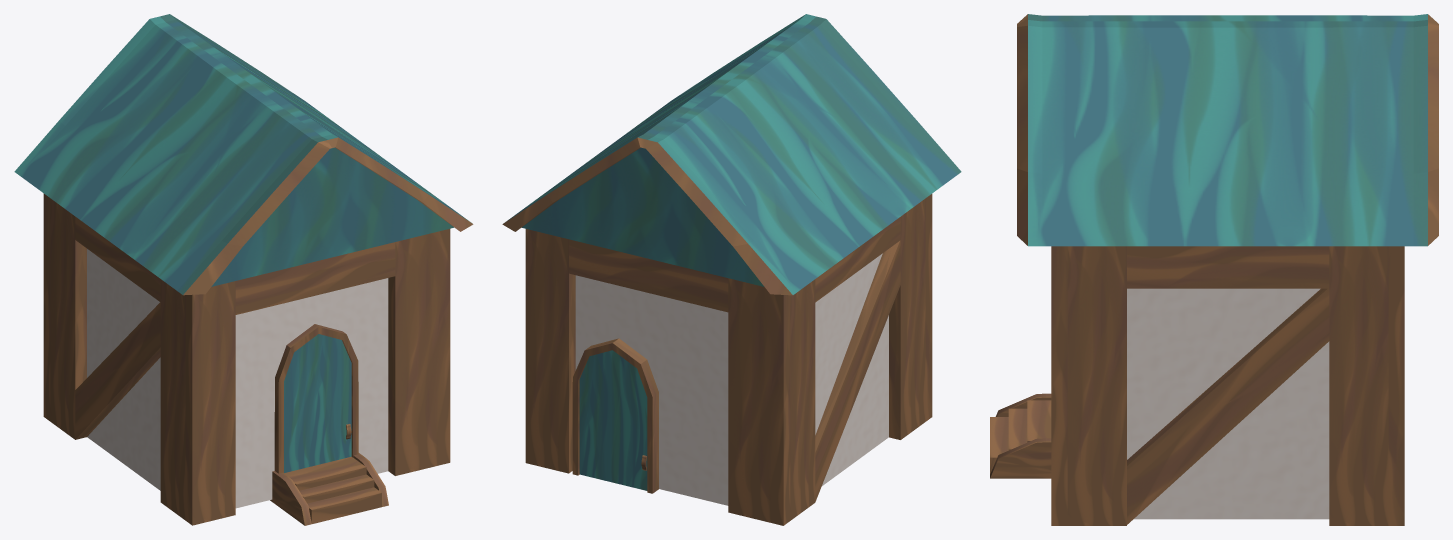
The model's file is house_sm_UV 1.FBX.
3 views of the same model, side by side, from view 1: azimuth 30°, elevation 25°; view 2: azimuth 150°, elevation 25°; view 3: azimuth 270°, elevation 25° (orthographic). The views are drawn at different scales.
Parts seen in each view (by area): view 1: HouseBlock1, Roof1, Door, Steps; view 2: HouseBlock1, Roof1, Door006; view 3: HouseBlock1, Roof1, Steps.
Part boxes in pixels (left/top/right/bottom): HouseBlock1: left=43, top=193, right=450, bottom=525; Roof1: left=14, top=14, right=473, bottom=295; Door: left=274, top=324, right=358, bottom=473; Steps: left=270, top=453, right=388, bottom=525; HouseBlock1: left=525, top=194, right=932, bottom=525; Roof1: left=502, top=14, right=961, bottom=295; Door006: left=572, top=338, right=658, bottom=493; HouseBlock1: left=1051, top=246, right=1404, bottom=525; Roof1: left=1017, top=14, right=1438, bottom=246; Steps: left=990, top=393, right=1051, bottom=478.
Size of the model in its own units: 457 by 548 by 515.
